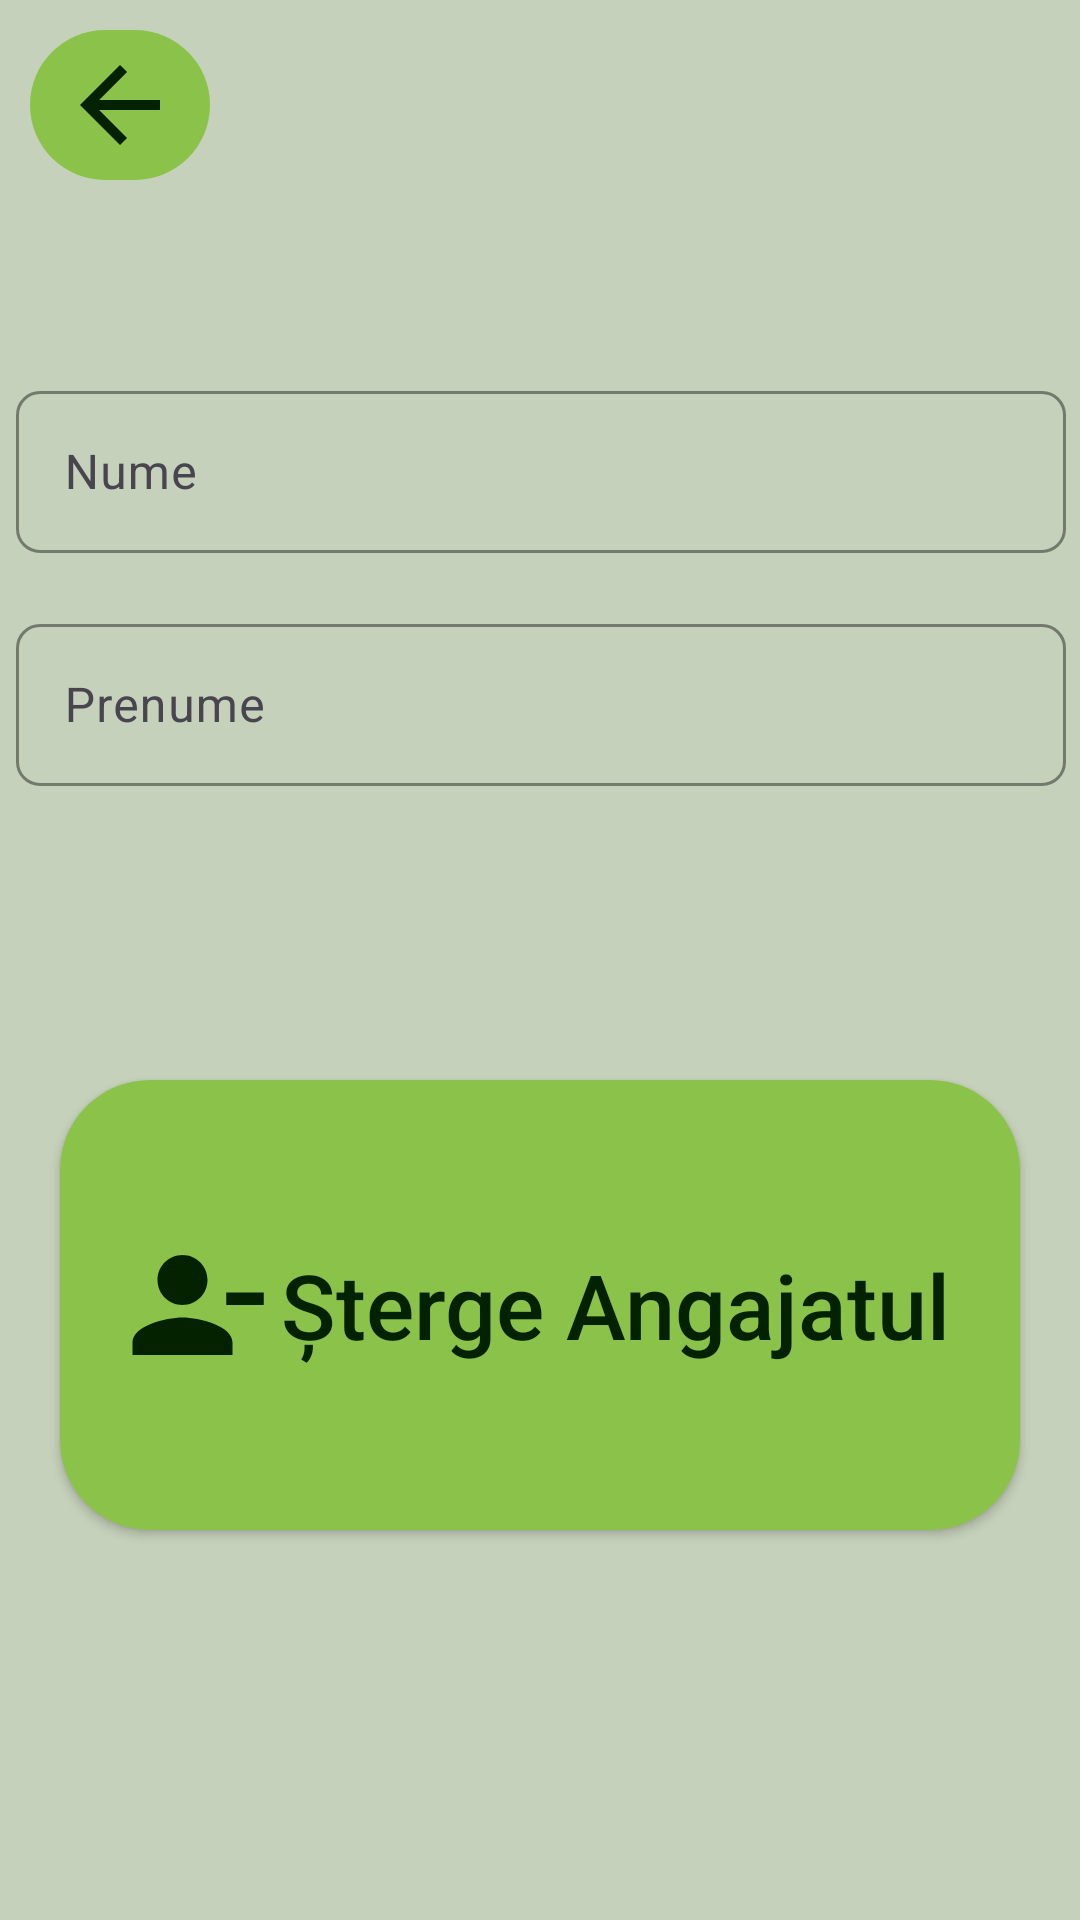

Where to tap for icons on this 1080px x 1920px app screen, as [x,y]:
back arrow: [120,105]
